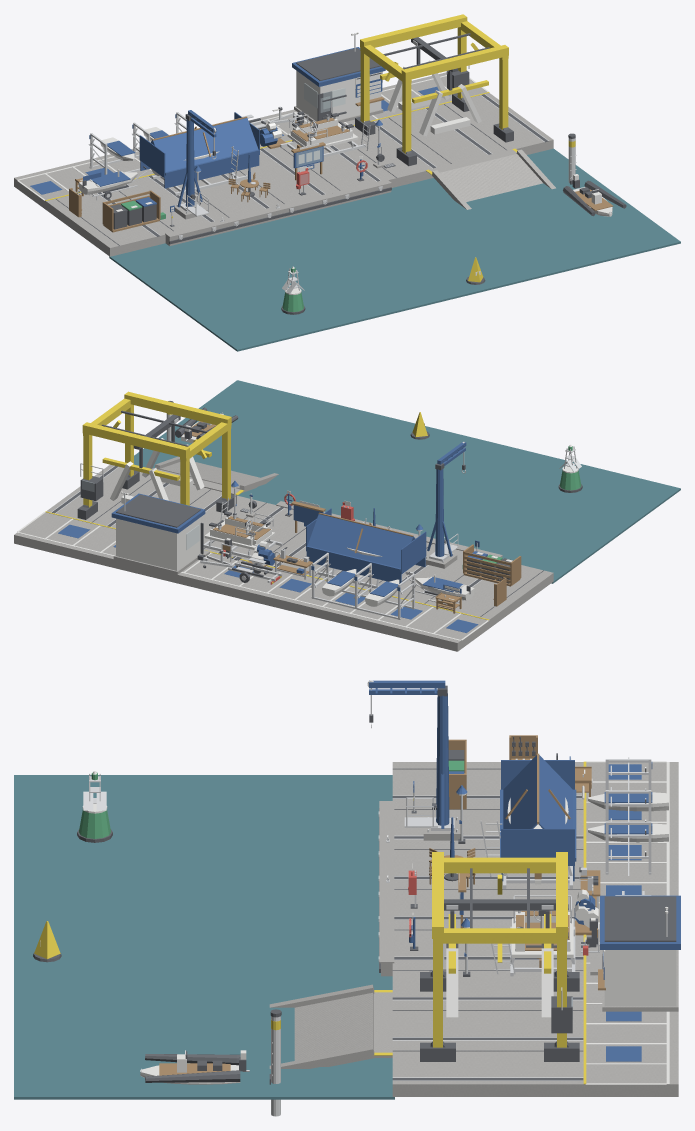
The model's file is marina-and-yacht-club-marina-and-yacht-club-yard-scene-48a0b49d__38337.glb.
3 renders of one model, top to bottom at view 1: azimuth 30°, elevation 25°; view 2: azimuth 150°, elevation 25°; view 3: azimuth 270°, elevation 25°, orthographic. The views are drawn at different scales.
Visible parts, largest first — view 1: 031-marina-and-yacht-club-sea-water-plane-module/0, 033-marina-and-yacht-club-sea-water-plane-module/0, 028-marina-and-yacht-club-sea-water-plane-module/0, 029-marina-and-yacht-club-sea-water-plane-module/0, 035-marina-and-yacht-club-sea-water-plane-module/0, 030-marina-and-yacht-club-sea-water-plane-module/0, 032-marina-and-yacht-club-sea-water-plane-module/0, 037-marina-and-yacht-club-boat-hoist/0, 041-marina-and-yacht-club-boat-under-cover/4, 036-marina-and-yacht-club-slipway-module/0, 034-marina-and-yacht-club-sea-water-plane-module/0, 055-marina-and-yacht-club-race-office/1 (+33 smaller); view 2: 033-marina-and-yacht-club-sea-water-plane-module/0, 029-marina-and-yacht-club-sea-water-plane-module/0, 031-marina-and-yacht-club-sea-water-plane-module/0, 035-marina-and-yacht-club-sea-water-plane-module/0, 028-marina-and-yacht-club-sea-water-plane-module/0, 037-marina-and-yacht-club-boat-hoist/0, 041-marina-and-yacht-club-boat-under-cover/4, 032-marina-and-yacht-club-sea-water-plane-module/0, 030-marina-and-yacht-club-sea-water-plane-module/0, 055-marina-and-yacht-club-race-office/1, 016-marina-and-yacht-club-car-park-bay-module/0, 034-marina-and-yacht-club-sea-water-plane-module/0 (+34 smaller); view 3: 031-marina-and-yacht-club-sea-water-plane-module/0, 033-marina-and-yacht-club-sea-water-plane-module/0, 028-marina-and-yacht-club-sea-water-plane-module/0, 035-marina-and-yacht-club-sea-water-plane-module/0, 030-marina-and-yacht-club-sea-water-plane-module/0, 029-marina-and-yacht-club-sea-water-plane-module/0, 032-marina-and-yacht-club-sea-water-plane-module/0, 034-marina-and-yacht-club-sea-water-plane-module/0, 037-marina-and-yacht-club-boat-hoist/0, 036-marina-and-yacht-club-slipway-module/0, 041-marina-and-yacht-club-boat-under-cover/4, 023-marina-and-yacht-club-car-park-bay-module/0 (+39 smaller).
Boxes of the visible parts, x1,y1,x2,y2 form: 031-marina-and-yacht-club-sea-water-plane-module/0: (284,249,458,324); 033-marina-and-yacht-club-sea-water-plane-module/0: (395,222,569,297); 028-marina-and-yacht-club-sea-water-plane-module/0: (109,232,283,304); 029-marina-and-yacht-club-sea-water-plane-module/0: (173,276,348,351); 035-marina-and-yacht-club-sea-water-plane-module/0: (506,195,680,270); 030-marina-and-yacht-club-sea-water-plane-module/0: (225,205,394,275); 032-marina-and-yacht-club-sea-water-plane-module/0: (336,178,505,248); 037-marina-and-yacht-club-boat-hoist/0: (360,14,508,153); 041-marina-and-yacht-club-boat-under-cover/4: (139,112,259,188); 036-marina-and-yacht-club-slipway-module/0: (429,149,555,209); 034-marina-and-yacht-club-sea-water-plane-module/0: (476,148,616,221); 055-marina-and-yacht-club-race-office/1: (296,32,381,121); 033-marina-and-yacht-club-sea-water-plane-module/0: (285,407,458,480); 029-marina-and-yacht-club-sea-water-plane-module/0: (506,462,680,536); 031-marina-and-yacht-club-sea-water-plane-module/0: (395,434,566,507); 035-marina-and-yacht-club-sea-water-plane-module/0: (175,380,347,453); 028-marina-and-yacht-club-sea-water-plane-module/0: (458,508,616,583); 037-marina-and-yacht-club-boat-hoist/0: (82,391,231,507); 041-marina-and-yacht-club-boat-under-cover/4: (306,508,426,583); 032-marina-and-yacht-club-sea-water-plane-module/0: (238,454,394,515); 030-marina-and-yacht-club-sea-water-plane-module/0: (353,481,505,543); 055-marina-and-yacht-club-race-office/1: (116,491,200,570); 016-marina-and-yacht-club-car-park-bay-module/0: (402,607,489,651); 034-marina-and-yacht-club-sea-water-plane-module/0: (134,427,283,475); 031-marina-and-yacht-club-sea-water-plane-module/0: (14,855,204,935); 033-marina-and-yacht-club-sea-water-plane-module/0: (14,936,204,1016); 028-marina-and-yacht-club-sea-water-plane-module/0: (204,775,392,855); 035-marina-and-yacht-club-sea-water-plane-module/0: (14,1016,204,1099); 030-marina-and-yacht-club-sea-water-plane-module/0: (204,855,378,935); 029-marina-and-yacht-club-sea-water-plane-module/0: (14,775,204,855); 032-marina-and-yacht-club-sea-water-plane-module/0: (204,936,392,1016); 034-marina-and-yacht-club-sea-water-plane-module/0: (204,1016,394,1099); 037-marina-and-yacht-club-boat-hoist/0: (432,852,567,1047); 036-marina-and-yacht-club-slipway-module/0: (269,984,392,1068); 041-marina-and-yacht-club-boat-under-cover/4: (500,755,576,881); 023-marina-and-yacht-club-car-park-bay-module/0: (583,1044,678,1096).
Bounding box in the file's own units: 32.12 × 9.12 × 28.
11 materials, 1 textured.
